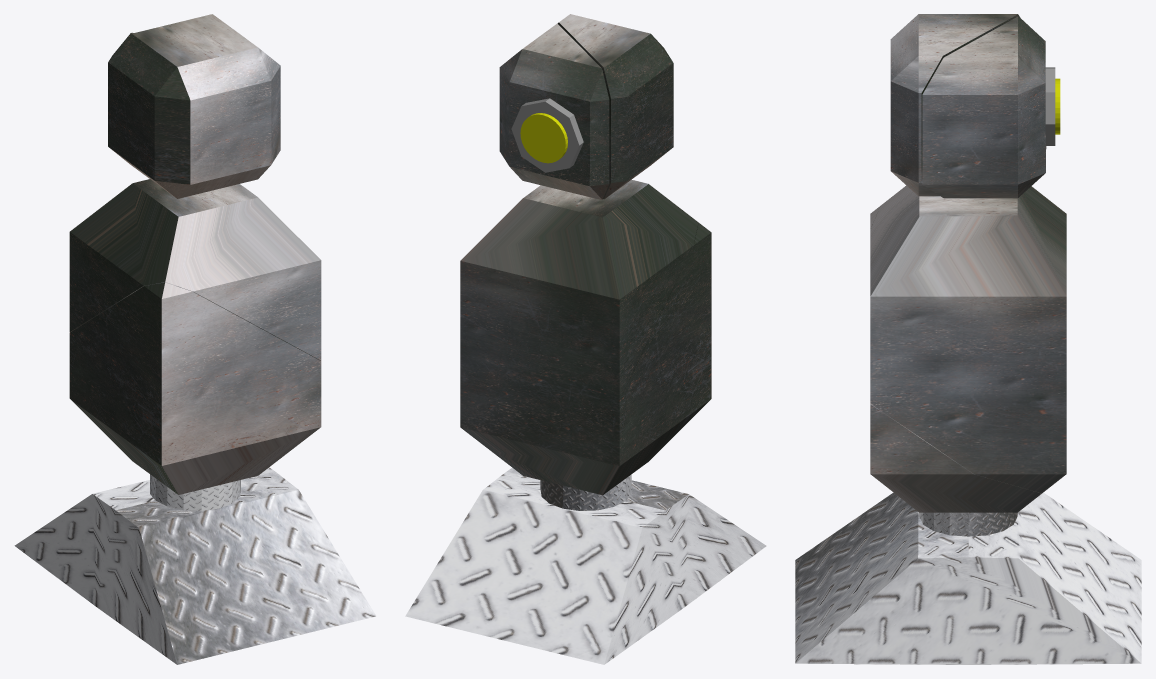
File: WarBotFractured.fbx
3 renders of one model, left to right at view 1: azimuth 30°, elevation 25°; view 2: azimuth 150°, elevation 25°; view 3: azimuth 270°, elevation 25°, orthographic. The views are drawn at different scales.
Visible parts, largest first — view 1: Cube.052_cell.003, Cube.052_cell.002, Cube.063_cell.006, Cube.063_cell.005; view 2: Cube.052_cell.003, Cube.052_cell.002, Cube.063_cell.005, Cube.063_cell.006; view 3: Cube.052_cell.003, Cube.052_cell.002, Cube.063_cell.005, Cube.063_cell.006.
Part boxes in pixels (x1,y1,x2,y2): Cube.052_cell.003: (14, 282, 375, 664); Cube.052_cell.002: (69, 179, 321, 360); Cube.063_cell.006: (108, 32, 280, 198); Cube.063_cell.005: (135, 14, 245, 38); Cube.052_cell.003: (405, 222, 766, 664); Cube.052_cell.002: (460, 179, 698, 451); Cube.063_cell.005: (499, 23, 609, 199); Cube.063_cell.006: (557, 14, 673, 199); Cube.052_cell.003: (795, 206, 1141, 664); Cube.052_cell.002: (870, 185, 1066, 493); Cube.063_cell.005: (922, 16, 1060, 198); Cube.063_cell.006: (890, 14, 1020, 196).
Bounding box in the file's own units: 1.5 × 2.12 × 3.9.
